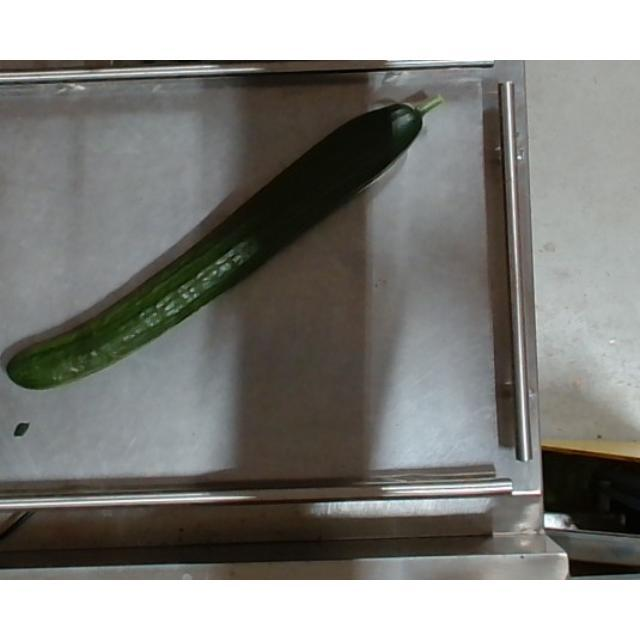cucumber: (6, 94, 444, 390)
